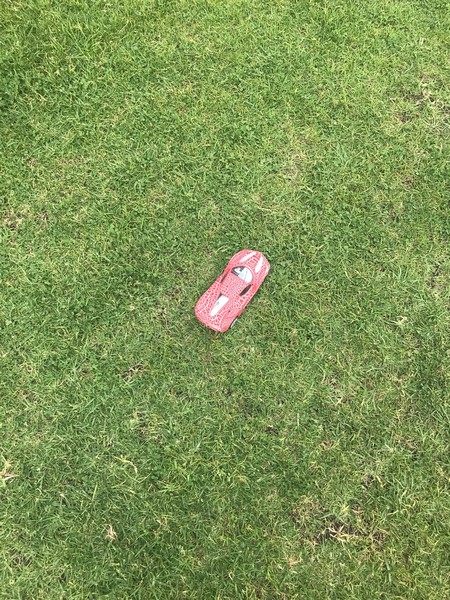RC: (192, 249, 272, 336)
